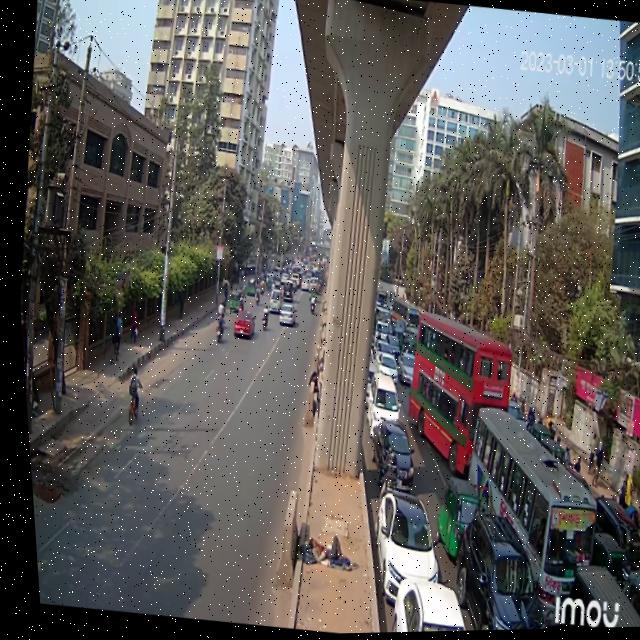cng: (422, 469, 480, 568), (223, 286, 241, 315), (240, 275, 256, 300)
